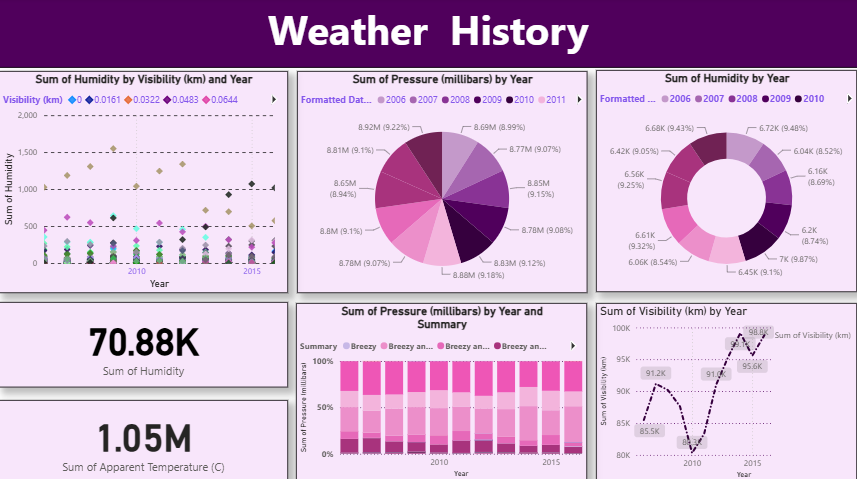

The page's visual inventory and layout, read from the dashboard file:
{"tool":"powerbi","page":{"name":"Page 1","canvas":[1280,720],"ordinal":0},"visuals":[{"type":"textbox","box":[11.3,0,1256.5,102],"z":0},{"type":"pieChart","fields":{"Category":["weatherHistory.Formatted Date.Variation.Date Hierarchy.Year"],"Y":["Sum(weatherHistory.Pressure (millibars))"]},"box":[447.4,107,424.6,324.6],"z":1000},{"type":"scatterChart","fields":{"Series":["weatherHistory.Visibility (km)"],"X":["weatherHistory.Formatted Date.Variation.Date Hierarchy.Year"],"Y":["Sum(weatherHistory.Humidity)"]},"box":[11.3,106.9,422.6,325.5],"z":2000},{"type":"card","fields":{"Values":["Sum(weatherHistory.Humidity)"]},"box":[11.3,445.3,422.6,124.7],"z":3000},{"type":"card","fields":{"Values":["Sum(weatherHistory.Apparent Temperature (C))"]},"box":[11.3,587.8,422.6,118.2],"z":4000},{"type":"donutChart","fields":{"Category":["weatherHistory.Formatted Date.Variation.Date Hierarchy.Year","weatherHistory.Formatted Date.Variation.Date Hierarchy.Quarter","weatherHistory.Formatted Date.Variation.Date Hierarchy.Month","weatherHistory.Formatted Date.Variation.Date Hierarchy.Day"],"Y":["Sum(weatherHistory.Humidity)"]},"box":[885.7,105.2,382.1,325.5],"z":5000},{"type":"lineChart","fields":{"Category":["weatherHistory.Formatted Date.Variation.Date Hierarchy.Year"],"Y":["Sum(weatherHistory.Visibility (km))"]},"box":[885.7,446.9,382.1,262.3],"z":6000},{"type":"hundredPercentStackedColumnChart","fields":{"Category":["weatherHistory.Formatted Date.Variation.Date Hierarchy.Year"],"Series":["weatherHistory.Summary"],"Y":["Sum(weatherHistory.Pressure (millibars))"]},"box":[446.9,446.9,425.9,260.7],"z":7000}]}

Visuals, with their boxes in screenshot pixels (x1, y1, x2, y2), scaled from the page's 1280x720 canvas onto the 857x479 screenshot:
textbox: bbox(8, 0, 849, 68)
pieChart - weatherHistory.Formatted Date.Variation.Date Hierarchy.Year x Sum(weatherHistory.Pressure (millibars)): bbox(300, 71, 584, 287)
scatterChart - weatherHistory.Visibility (km) x weatherHistory.Formatted Date.Variation.Date Hierarchy.Year: bbox(8, 71, 291, 288)
card - Sum(weatherHistory.Humidity): bbox(8, 296, 291, 379)
card - Sum(weatherHistory.Apparent Temperature (C)): bbox(8, 391, 291, 470)
donutChart - weatherHistory.Formatted Date.Variation.Date Hierarchy.Year x weatherHistory.Formatted Date.Variation.Date Hierarchy.Quarter: bbox(593, 70, 849, 287)
lineChart - weatherHistory.Formatted Date.Variation.Date Hierarchy.Year x Sum(weatherHistory.Visibility (km)): bbox(593, 297, 849, 472)
hundredPercentStackedColumnChart - weatherHistory.Formatted Date.Variation.Date Hierarchy.Year x weatherHistory.Summary: bbox(299, 297, 584, 471)
